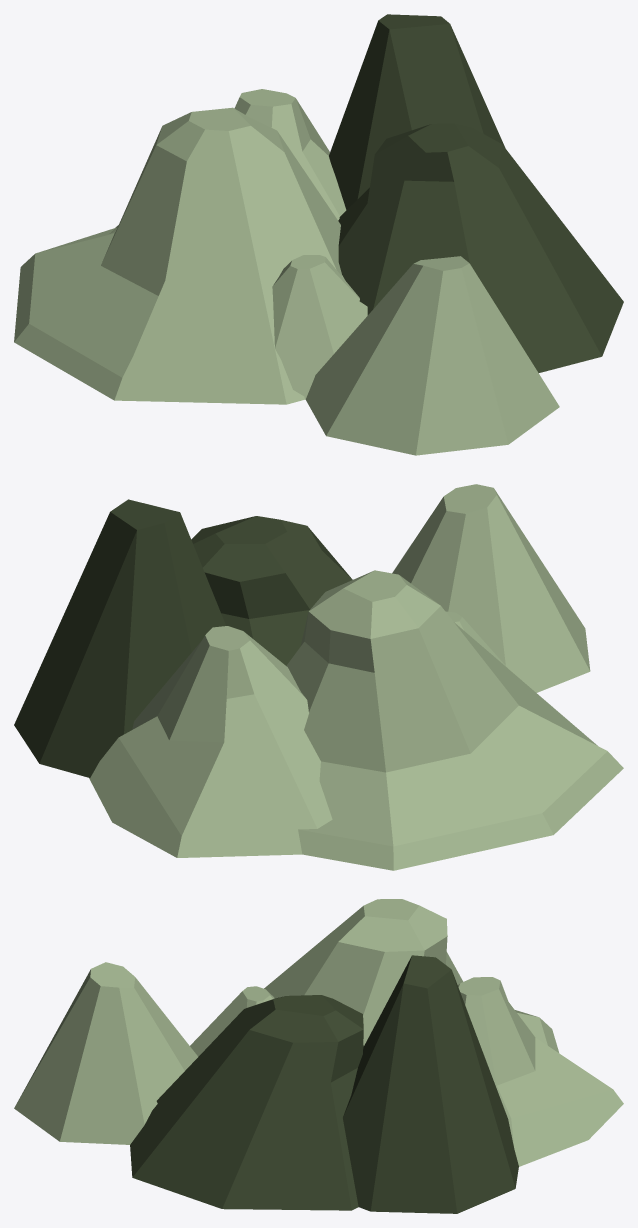
Rendered from EA_Swamp_Grass_Hill_01a.glb.
3 renders of one model, top to bottom at view 1: azimuth 30°, elevation 25°; view 2: azimuth 150°, elevation 25°; view 3: azimuth 270°, elevation 25°, orthographic. The views are drawn at different scales.
Parts seen in each view (by area): view 1: EA_Swamp_Grass_Hill_01a; view 2: EA_Swamp_Grass_Hill_01a; view 3: EA_Swamp_Grass_Hill_01a.
Boxes of the visible parts, x1,y1,x2,y2 form: EA_Swamp_Grass_Hill_01a: (14,14,623,455); EA_Swamp_Grass_Hill_01a: (14,484,623,870); EA_Swamp_Grass_Hill_01a: (14,899,623,1213).
Bounding box in the file's own units: 0.6412 × 0.2701 × 0.7504.
1 material, 1 textured.
